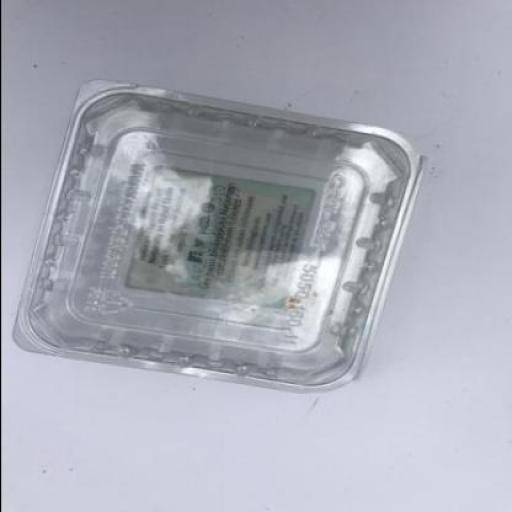plastic: (9, 81, 424, 395)
